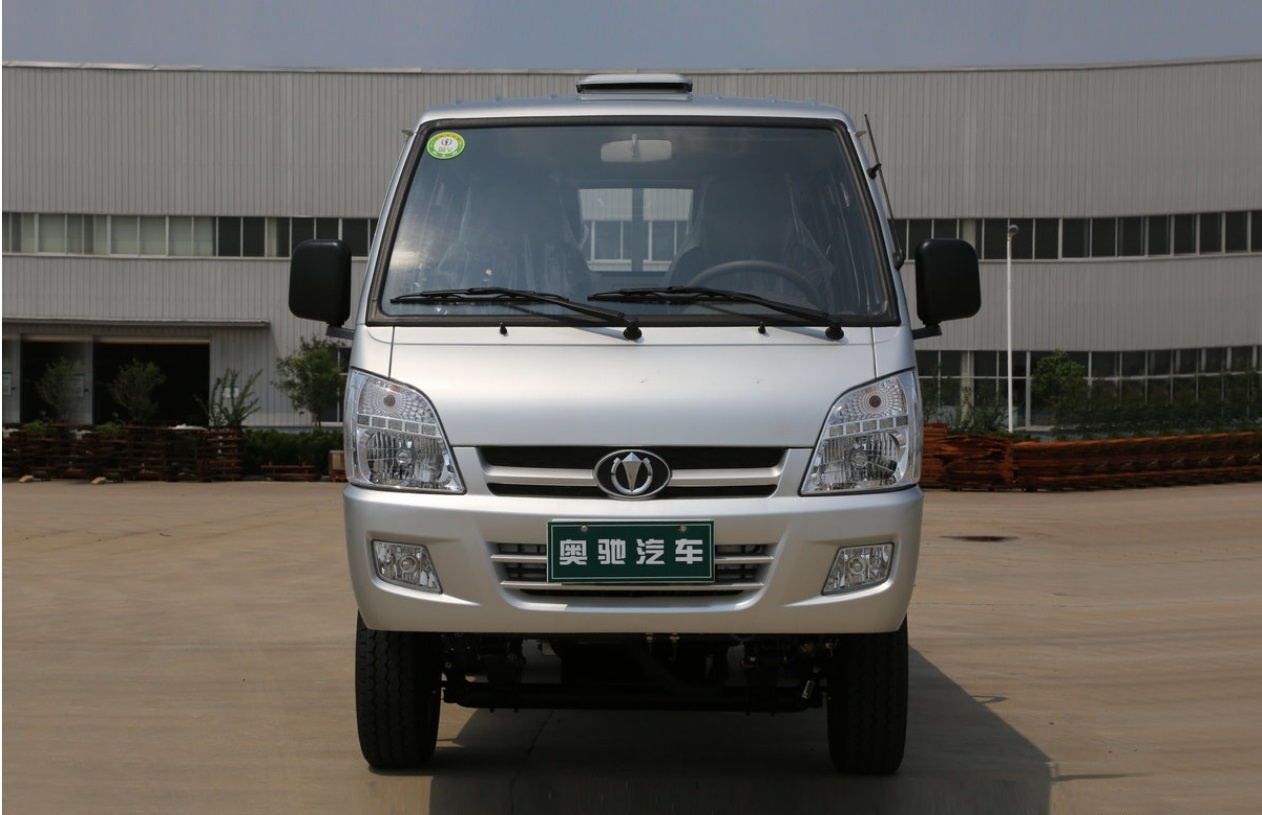truck: (308, 74, 983, 763)
